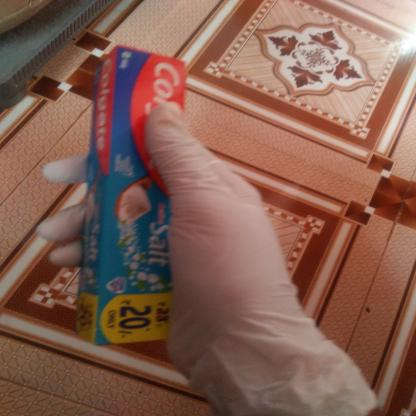gloved_hand: (29, 101, 388, 414)
